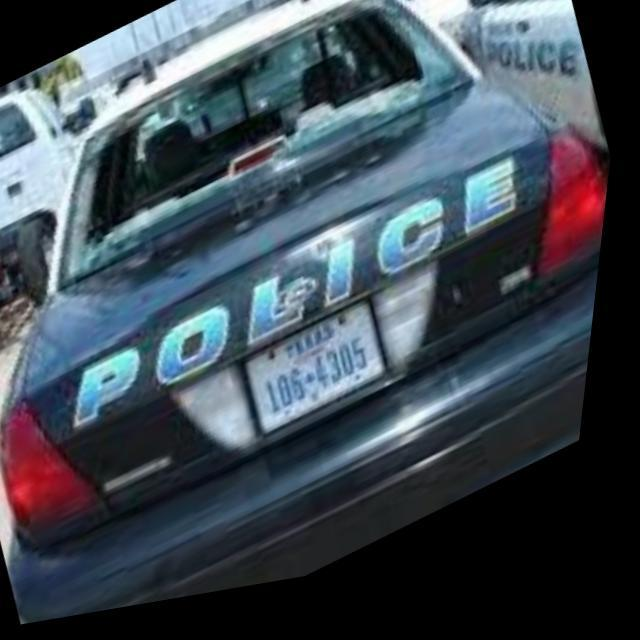glass shatter: (63, 0, 475, 278)
